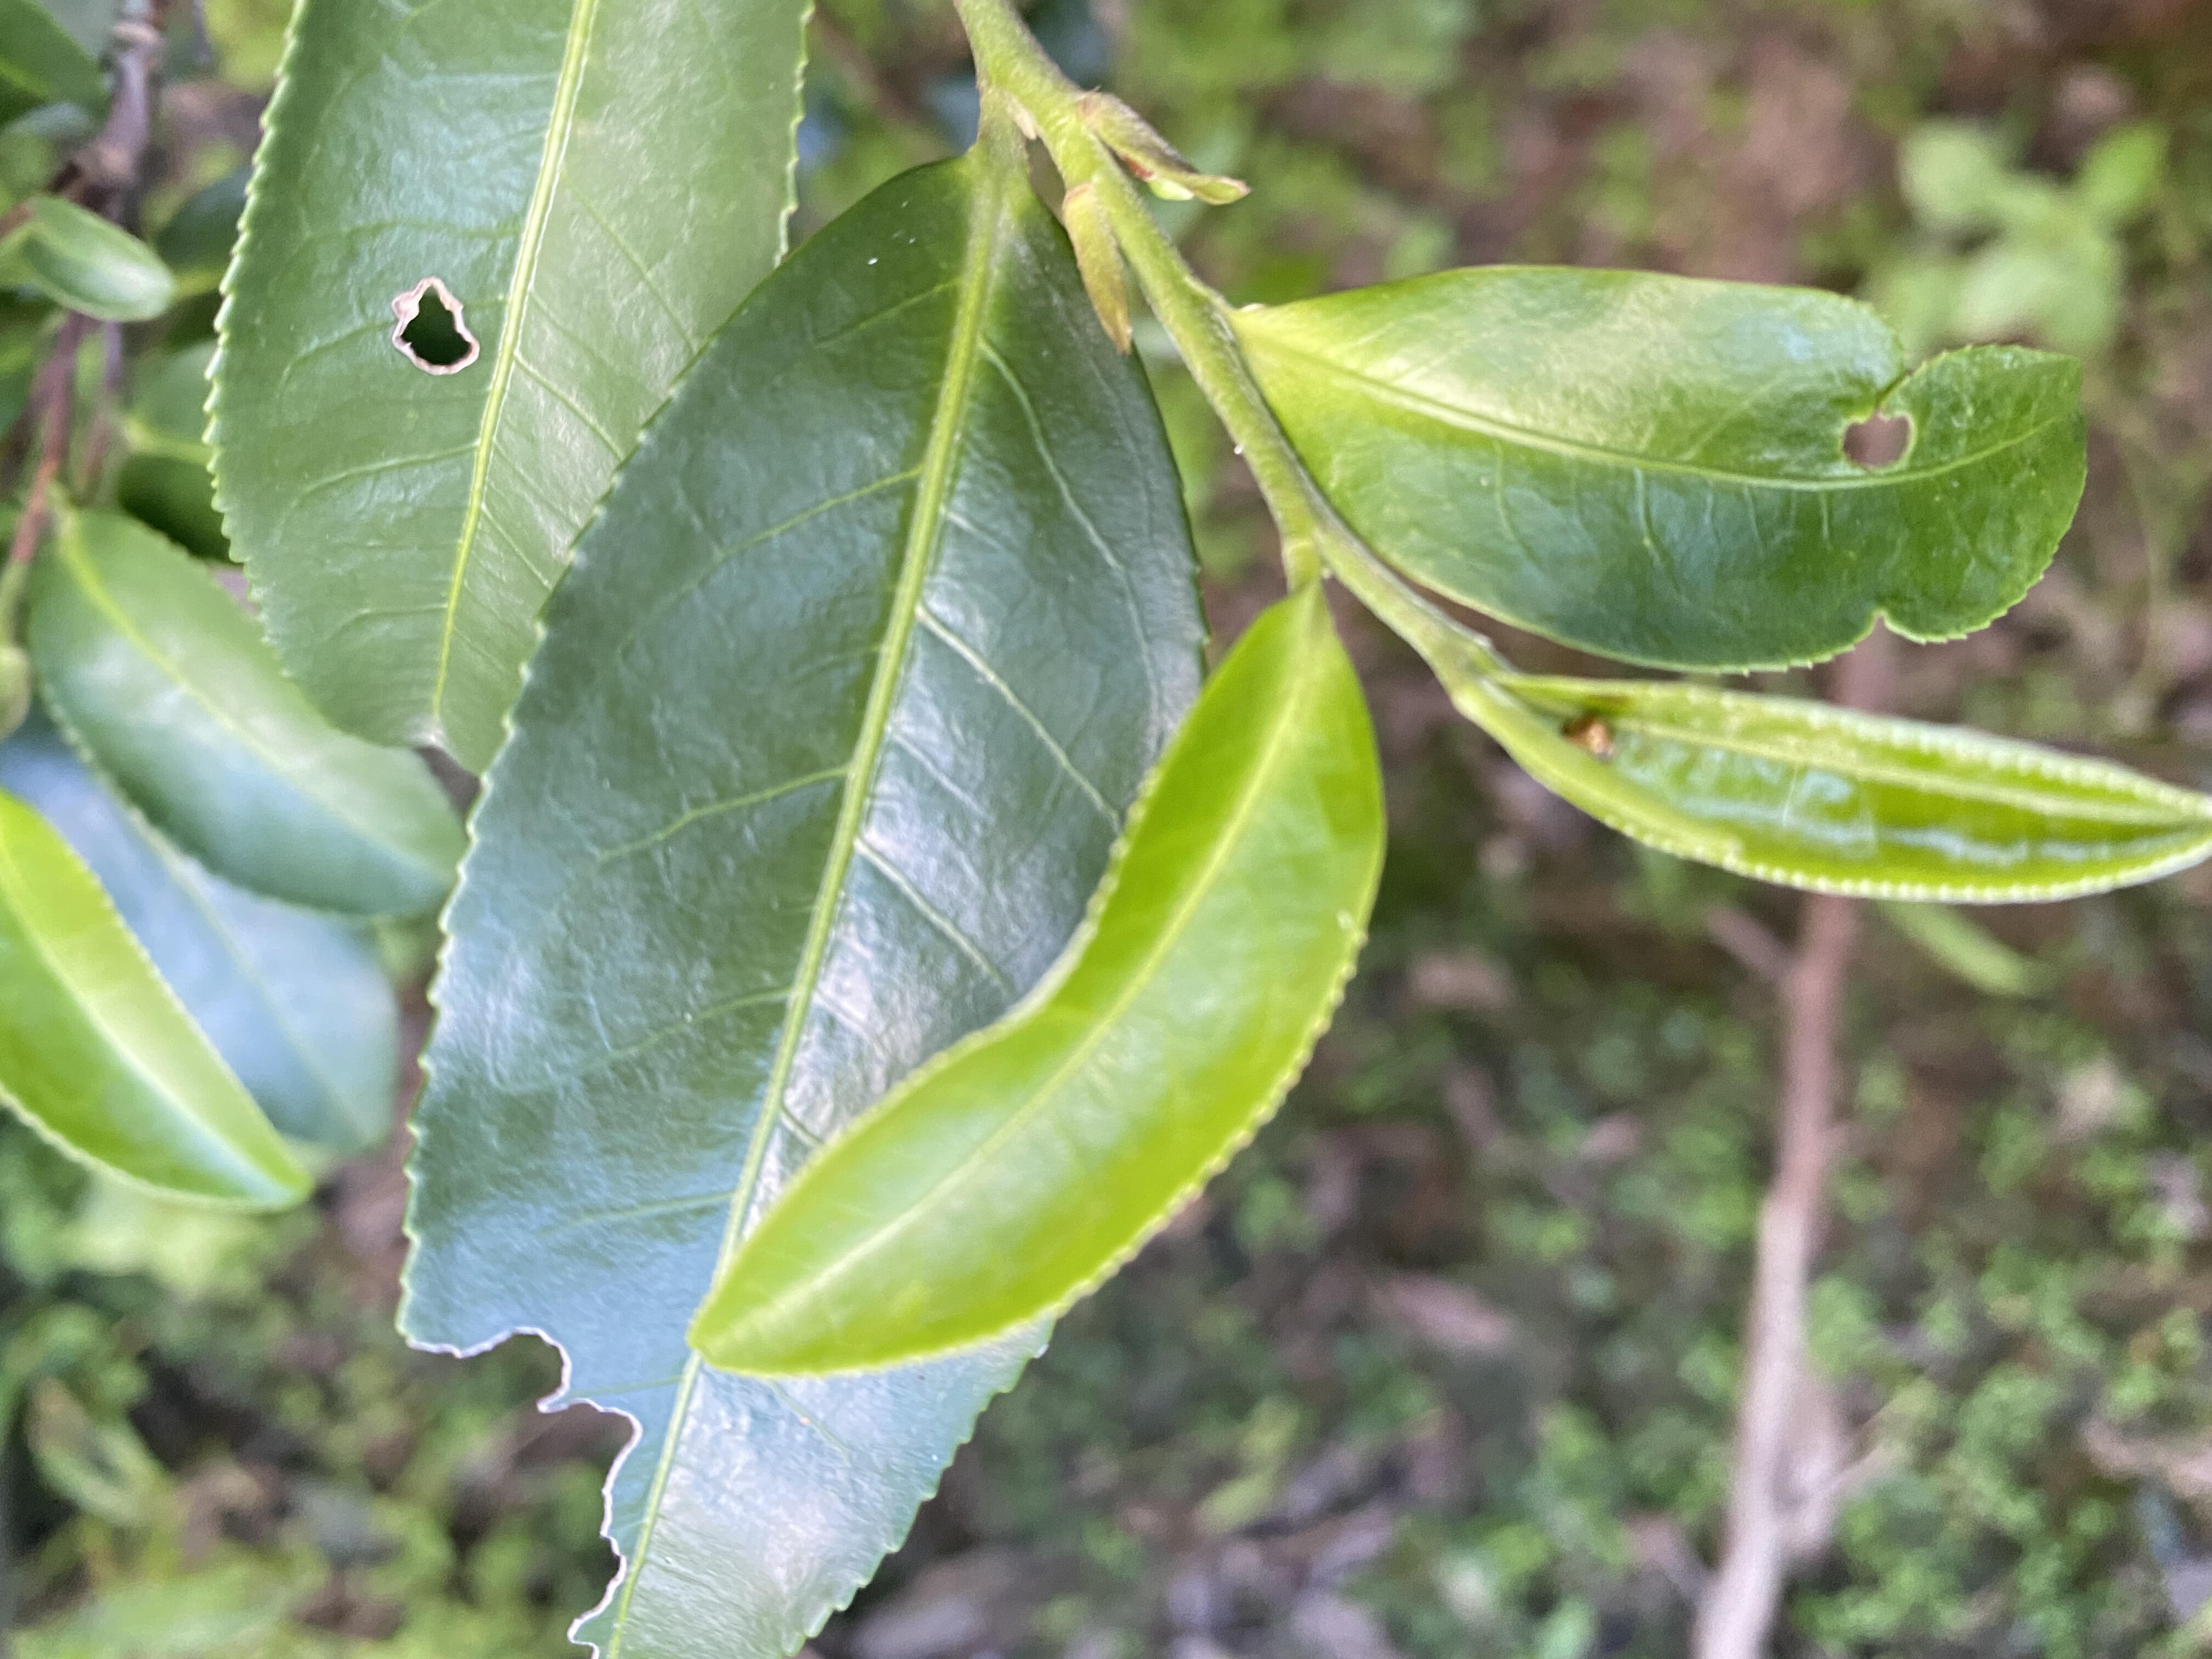chihuo_high: (394, 143, 1214, 1656), (1252, 260, 2092, 676)
chihuo_low: (199, 3, 819, 779)
healthy: (685, 594, 1392, 1385)
tanju_low: (1500, 673, 2209, 903)
